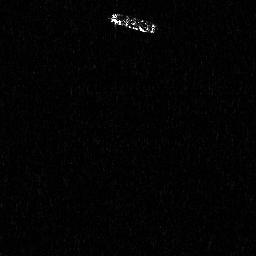ship: (107, 10, 159, 36)
